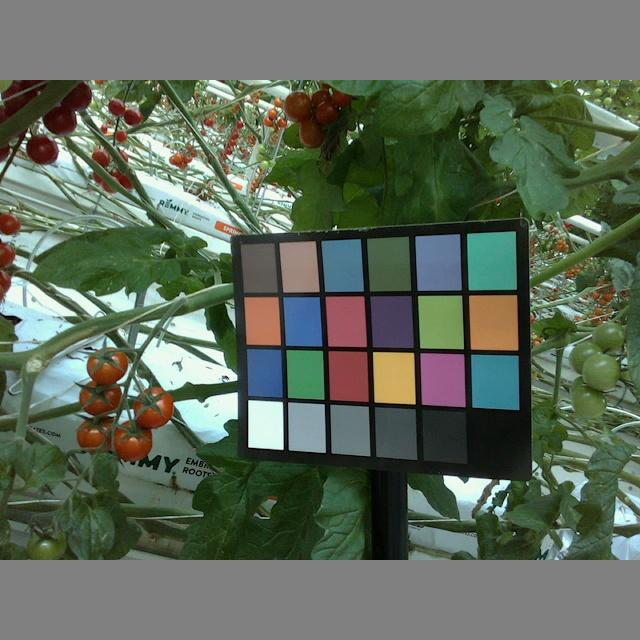green: (581, 351, 619, 390), (25, 527, 67, 560), (570, 385, 608, 420), (590, 321, 625, 354)
pink: (111, 419, 156, 463), (133, 385, 175, 430), (78, 380, 124, 417), (77, 416, 119, 456), (86, 348, 127, 383), (279, 90, 311, 119), (298, 121, 323, 147), (315, 100, 338, 122), (329, 88, 351, 109)
red: (41, 102, 77, 137), (25, 133, 60, 166), (59, 81, 97, 110), (1, 212, 21, 236), (1, 242, 17, 267), (1, 272, 11, 296)
